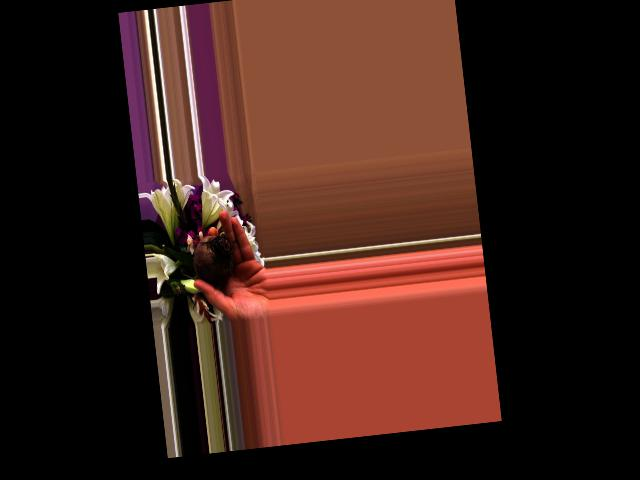beet: (178, 232, 236, 290)
